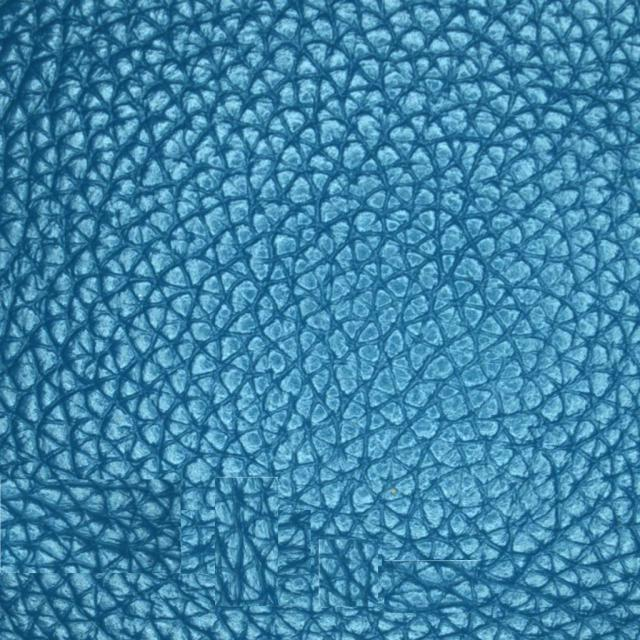Healed Injury: (25, 458, 392, 625)
